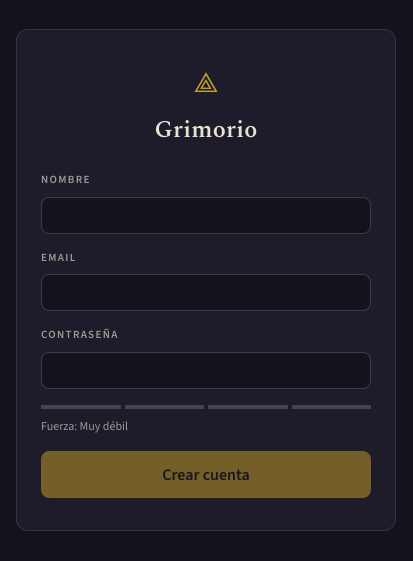
it: RegistroScreen › shows a field validation error after the user blurs an invalid field
The width and height of the screenshot is (413, 561).
Type "bad-email" into the field labelled "Email" at x=206, y=293, box [41,274,371,311]
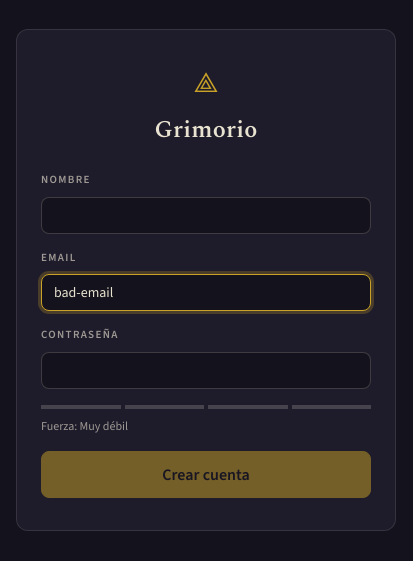
Press Tab
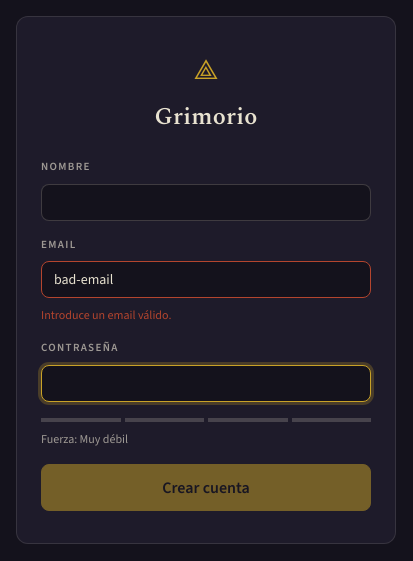
Now the text "Introduce un email válido." is shown, box [41,307,171,323]
